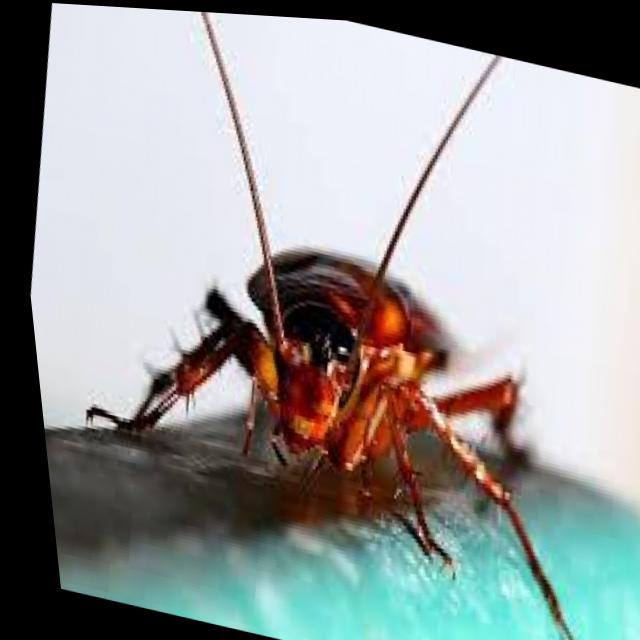Cockroach: (11, 1, 640, 640)
